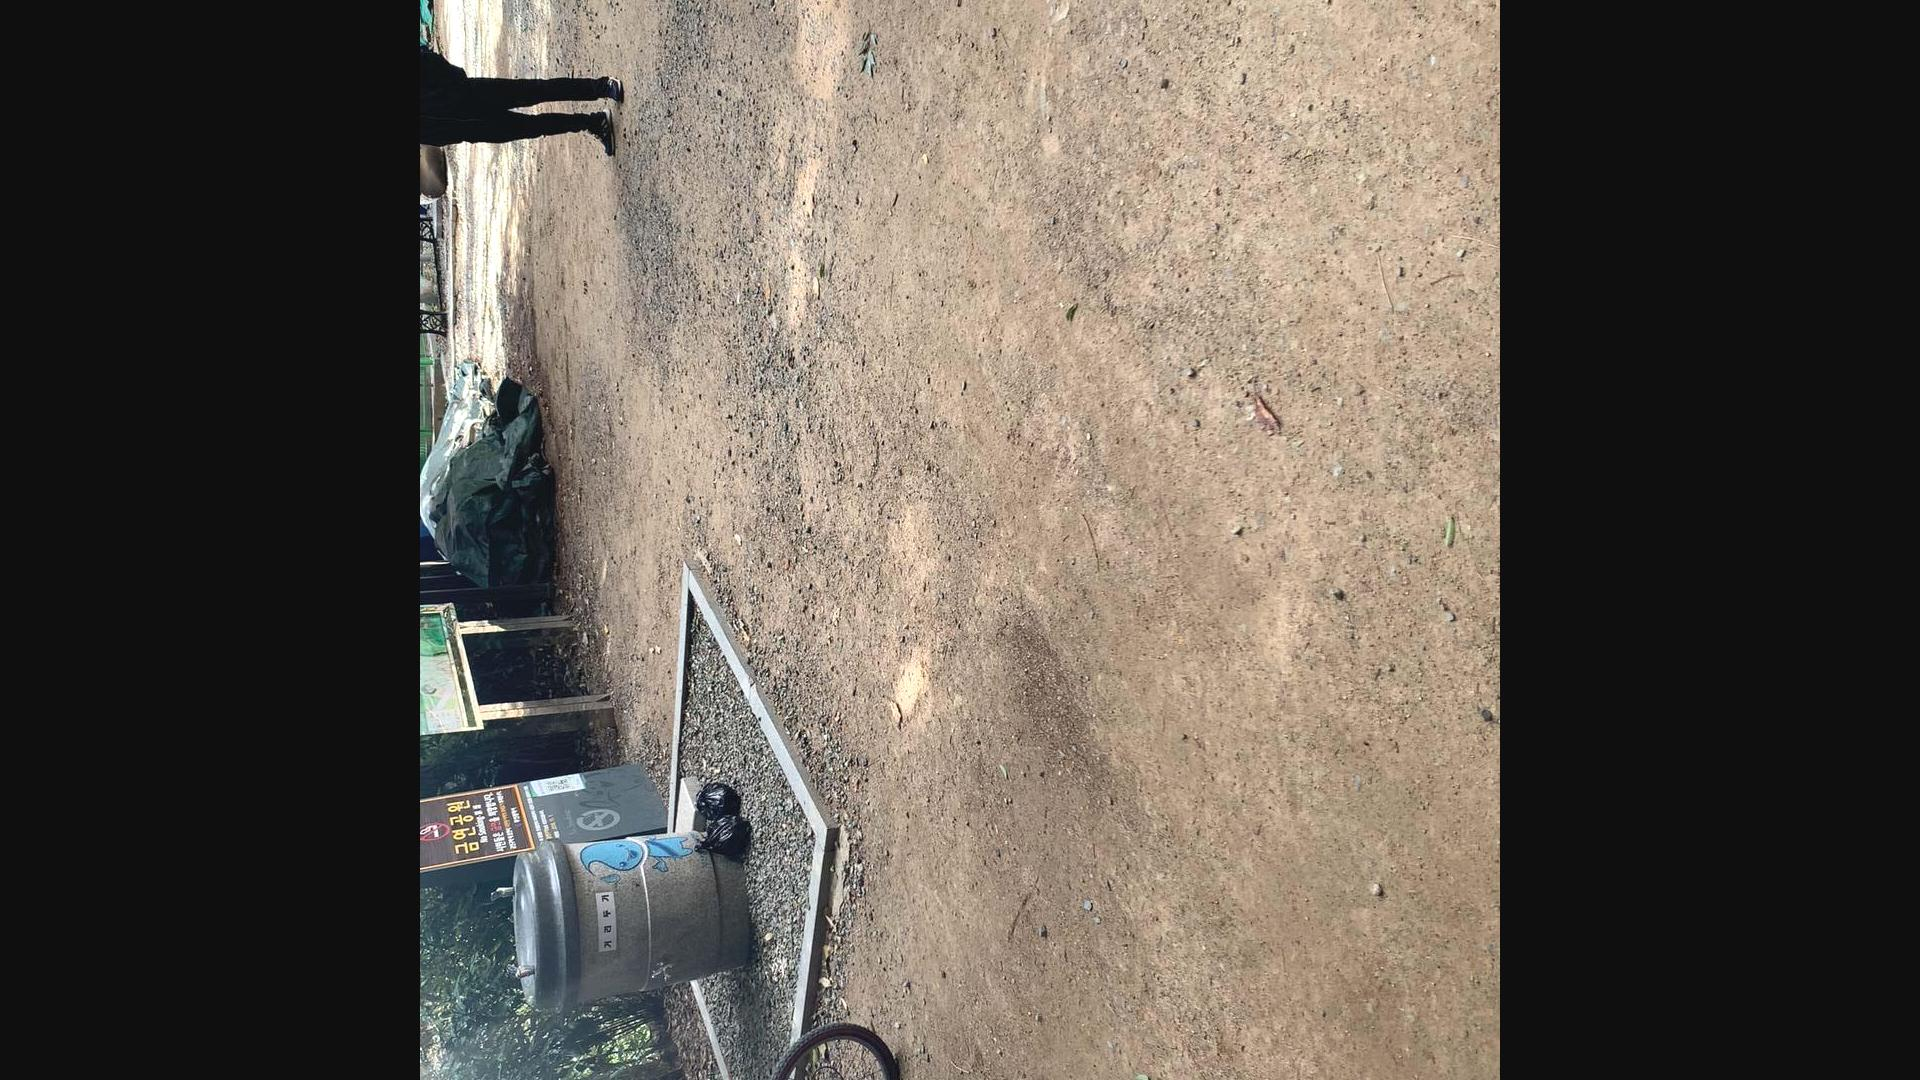black_bag: (694, 810, 752, 858), (694, 781, 741, 820)
